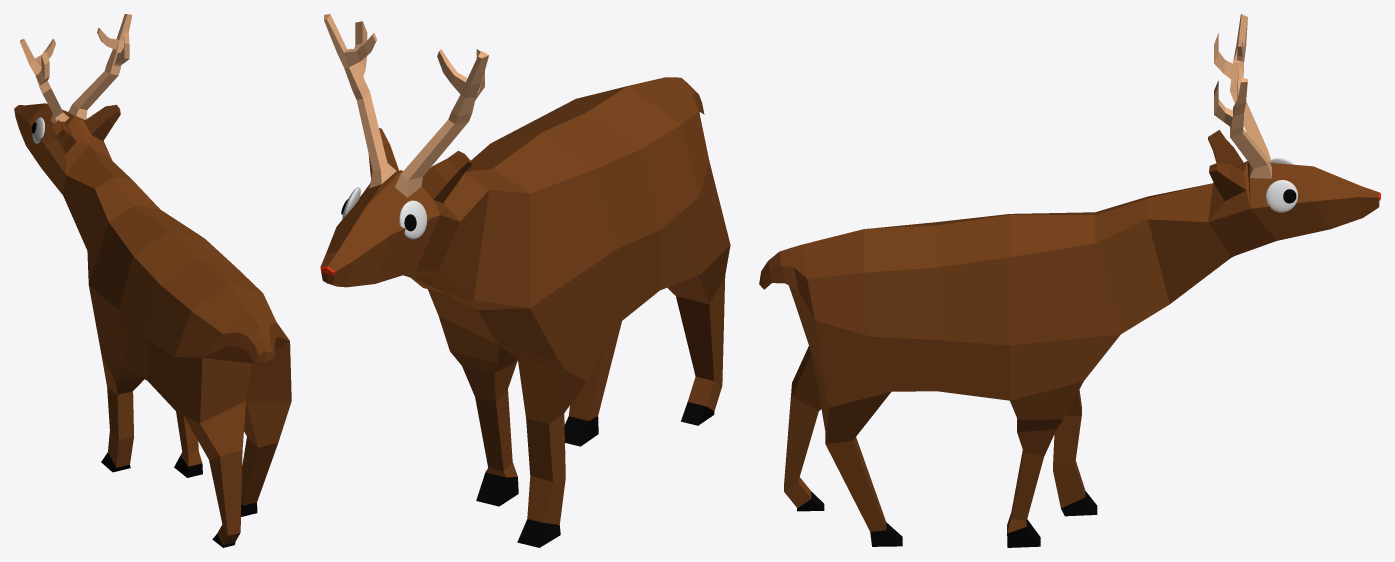
File: SM_Reindeer.fbx
The picture shows the model from 3 angles, left to right: view 1: azimuth 30°, elevation 25°; view 2: azimuth 150°, elevation 25°; view 3: azimuth 270°, elevation 25°; orthographic projection. The views are drawn at different scales.
Visible parts, largest first — view 1: Cube, Cube.001; view 2: Cube, Cube.001, Sphere; view 3: Cube, Cube.001, Sphere.
Boxes of the visible parts, x1=… form: Cube: x1=14, y1=103, x2=291, y2=547; Cube.001: x1=20, y1=14, x2=132, y2=123; Cube: x1=320, y1=77, x2=730, y2=547; Cube.001: x1=324, y1=14, x2=488, y2=197; Sphere: x1=342, y1=187, x2=427, y2=239; Cube: x1=759, y1=130, x2=1380, y2=547; Cube.001: x1=1214, y1=14, x2=1271, y2=178; Sphere: x1=1266, y1=158, x2=1297, y2=212.
Bounding box in the file's own units: 48.12 × 158 × 185.
